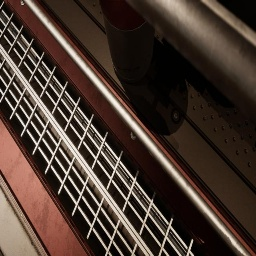NitrogenTank ,: (99, 0, 155, 84)
